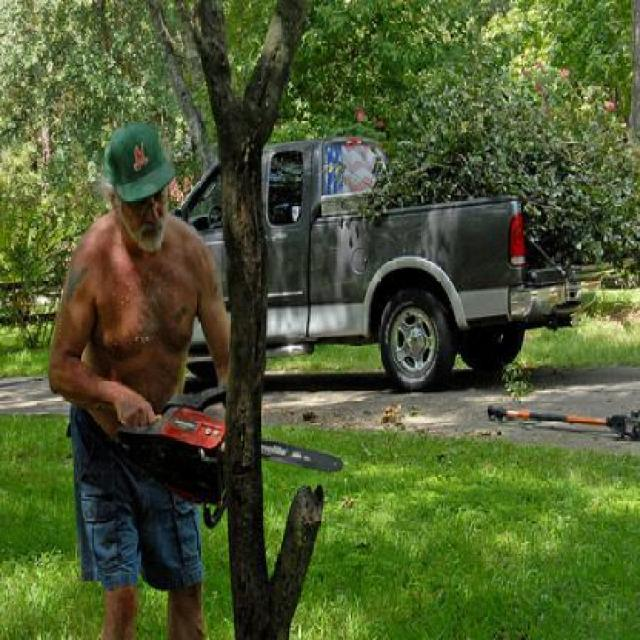Chainsaw: (123, 385, 345, 533)
